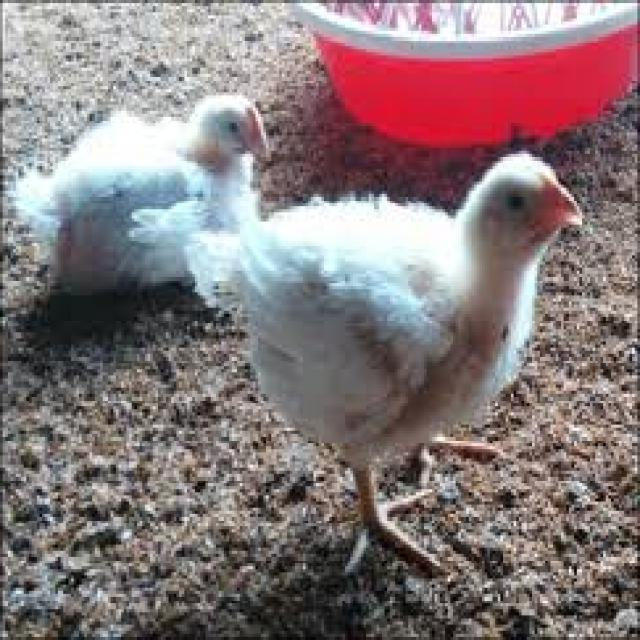poussin: (225, 146, 590, 584), (13, 90, 276, 312)
